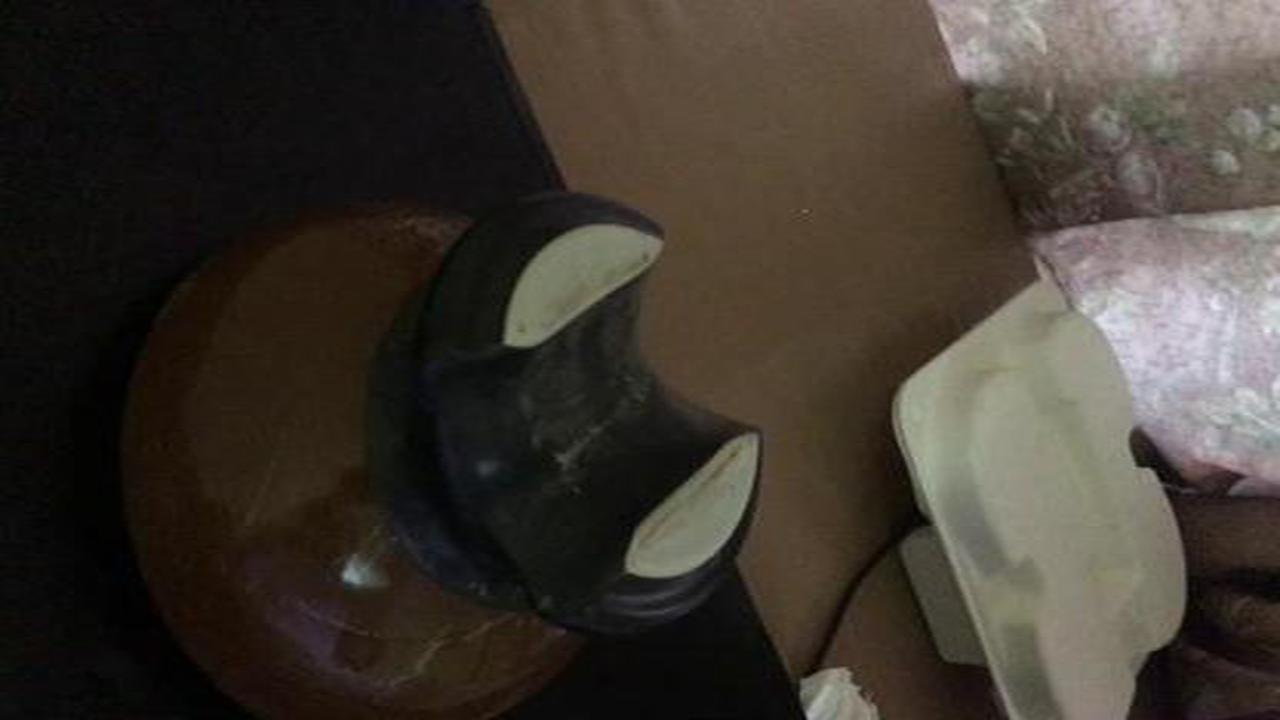insulator_pin: (87, 187, 785, 714)
